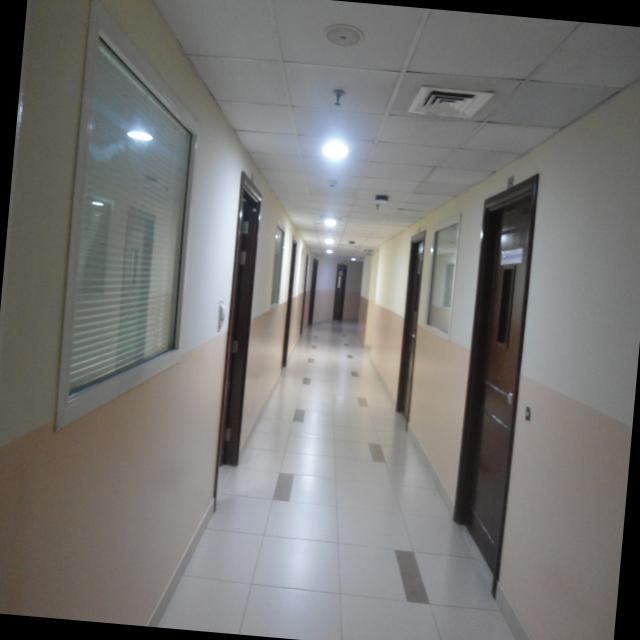door: (449, 198, 536, 591), (210, 165, 271, 501), (390, 229, 436, 429), (278, 234, 302, 378), (302, 253, 324, 344), (329, 264, 349, 330)
wall: (365, 79, 640, 640)
